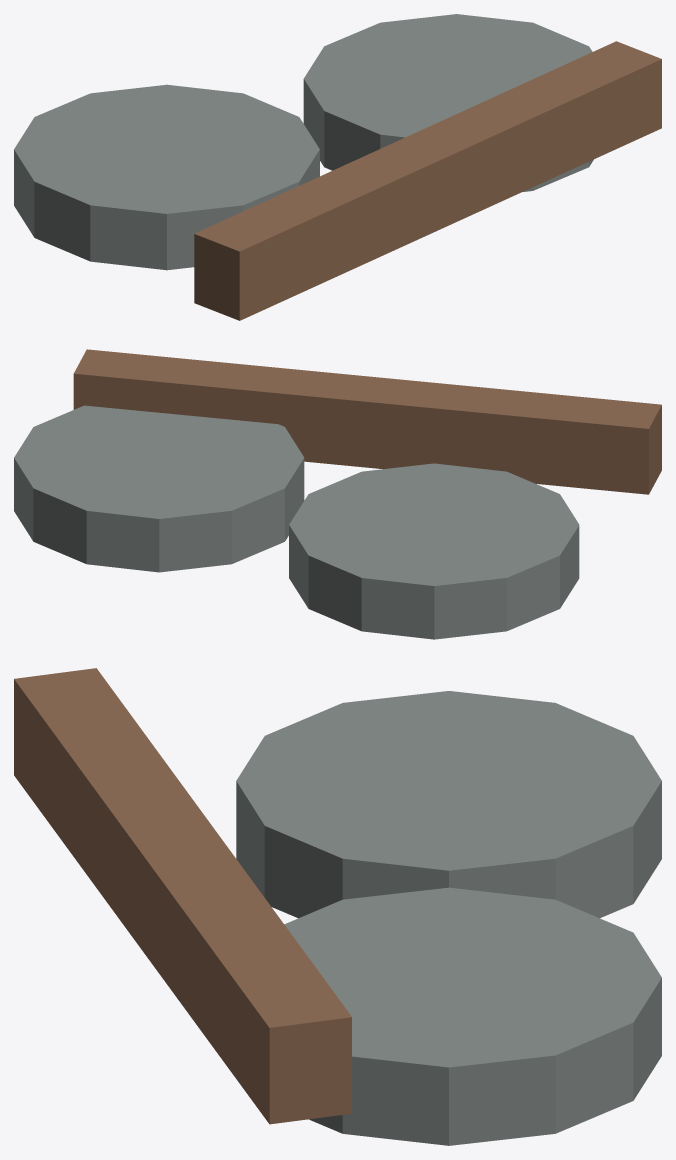
Rendered from v2_scrap_wheels.glb.
3 renders of one model, top to bottom at view 1: azimuth 30°, elevation 25°; view 2: azimuth 150°, elevation 25°; view 3: azimuth 270°, elevation 25°, orthographic. The views are drawn at different scales.
Parts seen in each view (by area): view 1: Cylinder.004; view 2: Cylinder.004; view 3: Cylinder.004.
Part boxes in pixels (bbox=[...]): Cylinder.004: bbox=[14, 14, 661, 320]; Cylinder.004: bbox=[14, 349, 661, 639]; Cylinder.004: bbox=[14, 668, 661, 1145].
Size of the model in its own units: 1.09 by 0.1649 by 0.7836.
